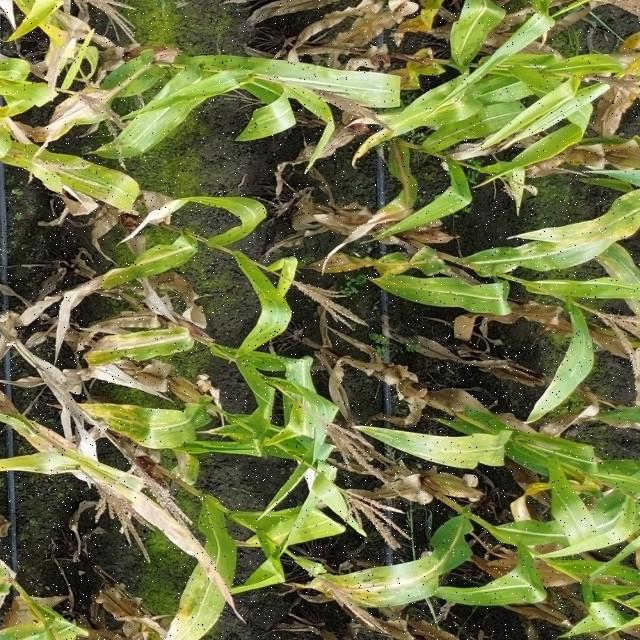gray-leaf-spot: (349, 423, 502, 476), (518, 434, 597, 478)
northern-leaf-blight: (310, 540, 474, 611), (504, 187, 639, 265), (139, 547, 240, 640), (61, 388, 190, 455), (24, 142, 136, 217), (298, 239, 456, 284), (80, 318, 190, 379)
